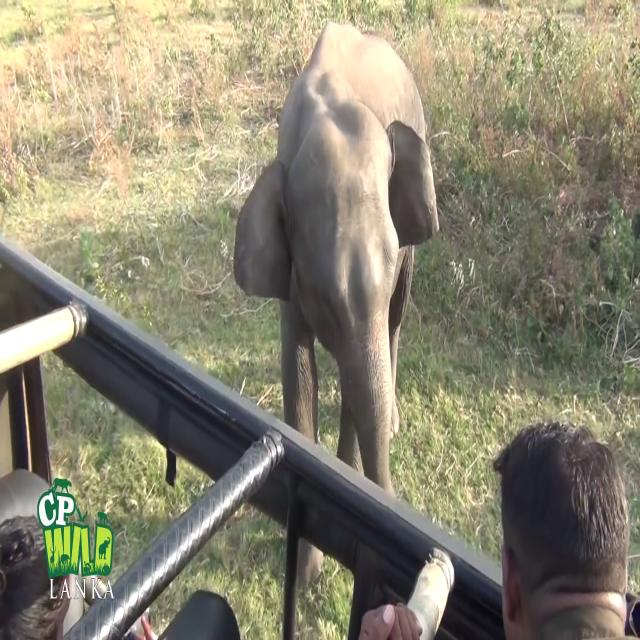Elephant: (232, 19, 440, 588)
